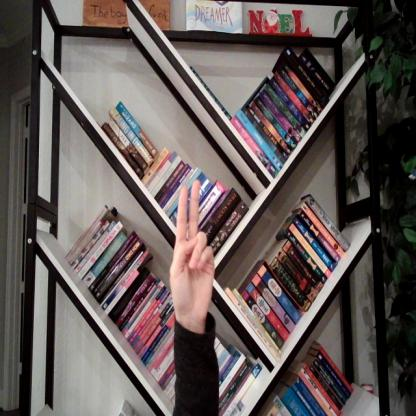two: (171, 175, 216, 324)
